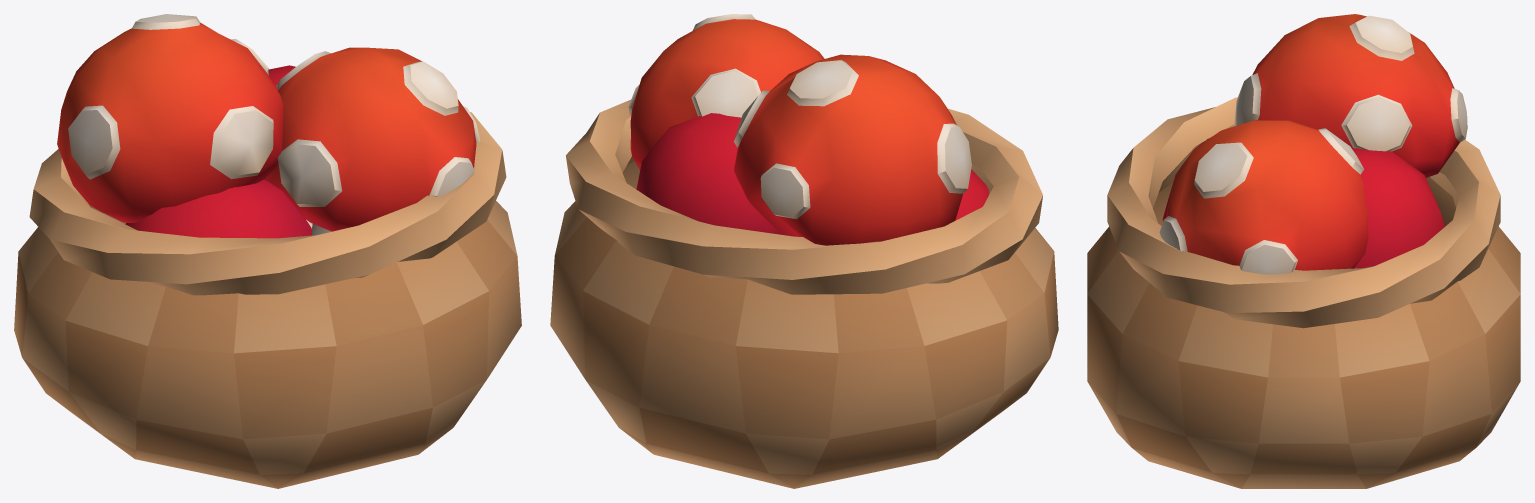
Rendered from Basket_Mushrooms.obj.
3 views of the same model, side by side, from view 1: azimuth 30°, elevation 25°; view 2: azimuth 150°, elevation 25°; view 3: azimuth 270°, elevation 25° (orthographic). The views are drawn at different scales.
Parts seen in each view (by area): view 1: Basket_Mushrooms; view 2: Basket_Mushrooms; view 3: Basket_Mushrooms.
Boxes of the visible parts, left/top/right/bottom form: Basket_Mushrooms: left=14, top=14, right=521, bottom=488; Basket_Mushrooms: left=550, top=14, right=1058, bottom=488; Basket_Mushrooms: left=1087, top=14, right=1520, bottom=488.
Bounding box in the file's own units: 0.639 × 0.5318 × 0.5567.
1 material, 1 textured.
